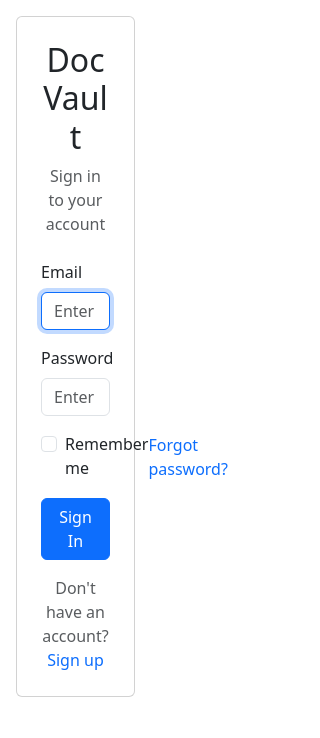
Test: LoginPage Integration Tests › Successful Login Flow › should disable form during submission
The image size is (320, 738).
Type "test@example.com" into the field labelled "Email" at (75, 311), box [41,292,110,330]
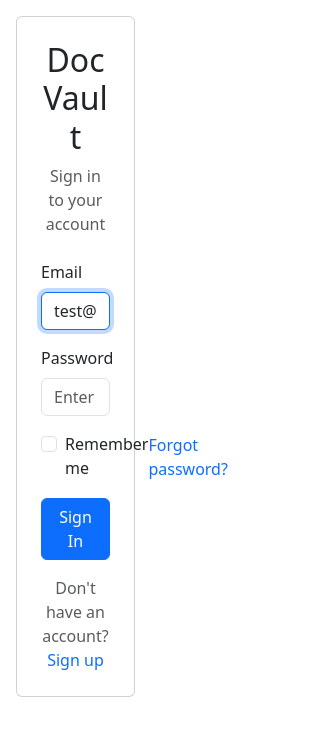
Type "password123" into the password field labelled "Password" at (75, 397), box [41,378,110,416]
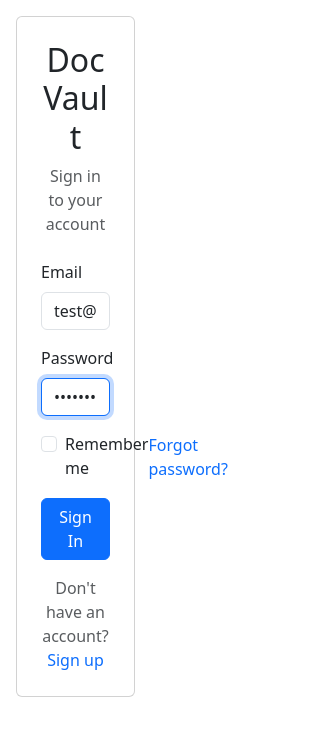
Click the button "Sign In" at (75, 529), box [41,498,110,560]
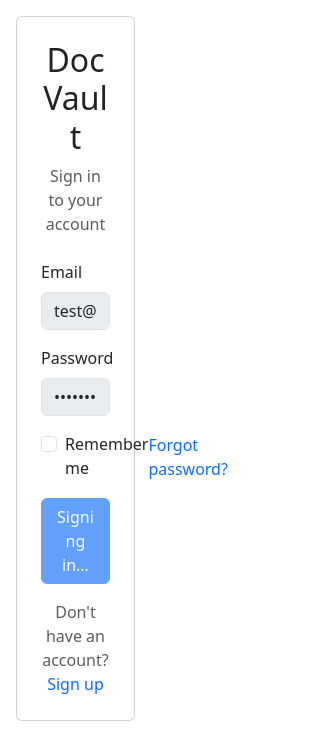
Expected: the field labelled "Email" is disabled, [41,292,110,330]
Now the button "Signing in..." is shown, box [41,498,110,584]
